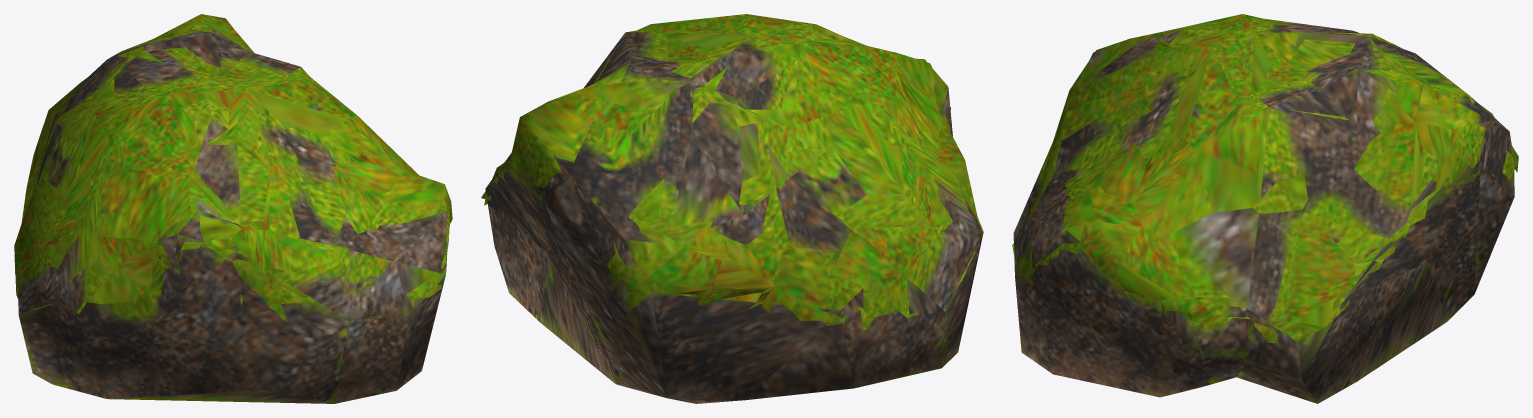
File: rock.glb
The picture shows the model from 3 angles, left to right: view 1: azimuth 30°, elevation 25°; view 2: azimuth 150°, elevation 25°; view 3: azimuth 270°, elevation 25°; orthographic projection. The views are drawn at different scales.
Parts seen in each view (by area): view 1: Mossy Rock.006; view 2: Mossy Rock.006; view 3: Mossy Rock.006.
Part boxes in pixels (x1,y1,x2,y2): Mossy Rock.006: (14,14,452,403); Mossy Rock.006: (481,14,983,403); Mossy Rock.006: (1012,14,1518,403).
Bounding box in the file's own units: 9.07 × 5.61 × 9.38.
Materials: 1 (1 with a texture image).
